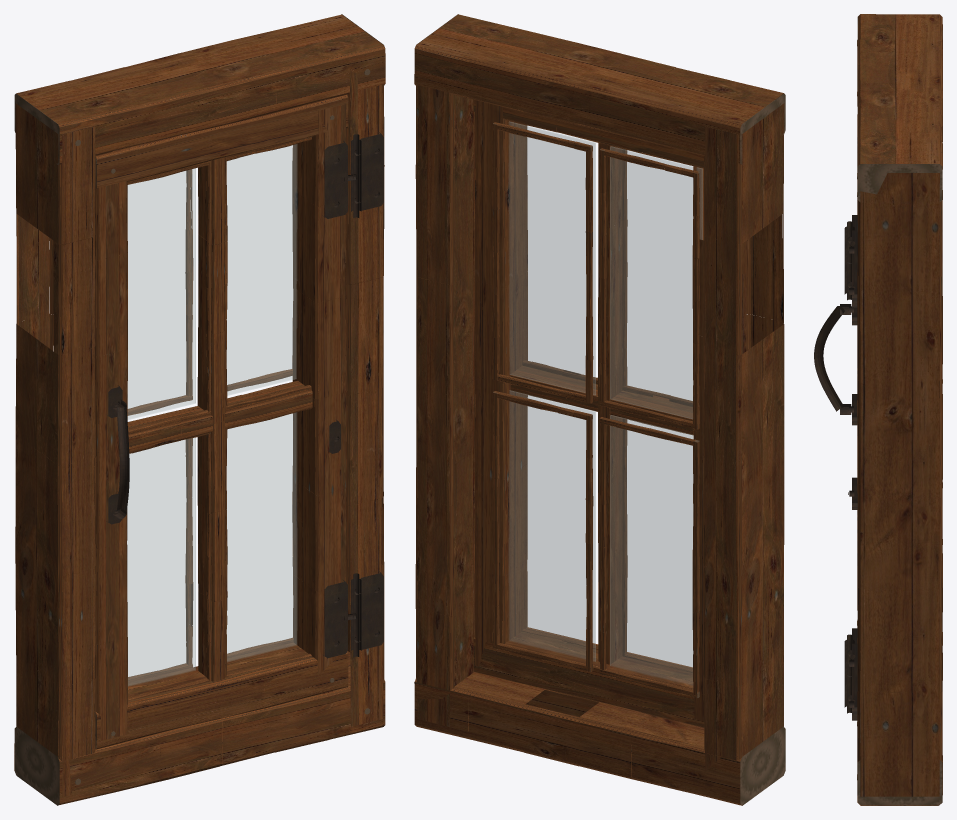
Rendered from window-wood-v3-webp.glb.
The picture shows the model from 3 angles, left to right: view 1: azimuth 30°, elevation 25°; view 2: azimuth 150°, elevation 25°; view 3: azimuth 270°, elevation 25°; orthographic projection. The views are drawn at different scales.
Visible parts, largest first — view 1: material_group_0, material_group_4, material_group_2, material_group_1; view 2: material_group_0, material_group_4, material_group_1; view 3: material_group_0, material_group_2, material_group_1, material_group_3.
Part boxes in pixels (x1,y1,x2,y2): material_group_0: [14, 14, 385, 804]; material_group_4: [127, 144, 297, 685]; material_group_2: [106, 132, 383, 657]; material_group_1: [14, 14, 384, 805]; material_group_0: [414, 14, 784, 805]; material_group_4: [508, 121, 702, 685]; material_group_1: [416, 14, 785, 805]; material_group_0: [857, 14, 942, 805]; material_group_2: [814, 215, 857, 720]; material_group_1: [857, 17, 942, 805]; material_group_3: [849, 247, 854, 707].
Size of the model in its own units: 0.5016 by 1 by 0.1822.
6 materials, 5 textured.
